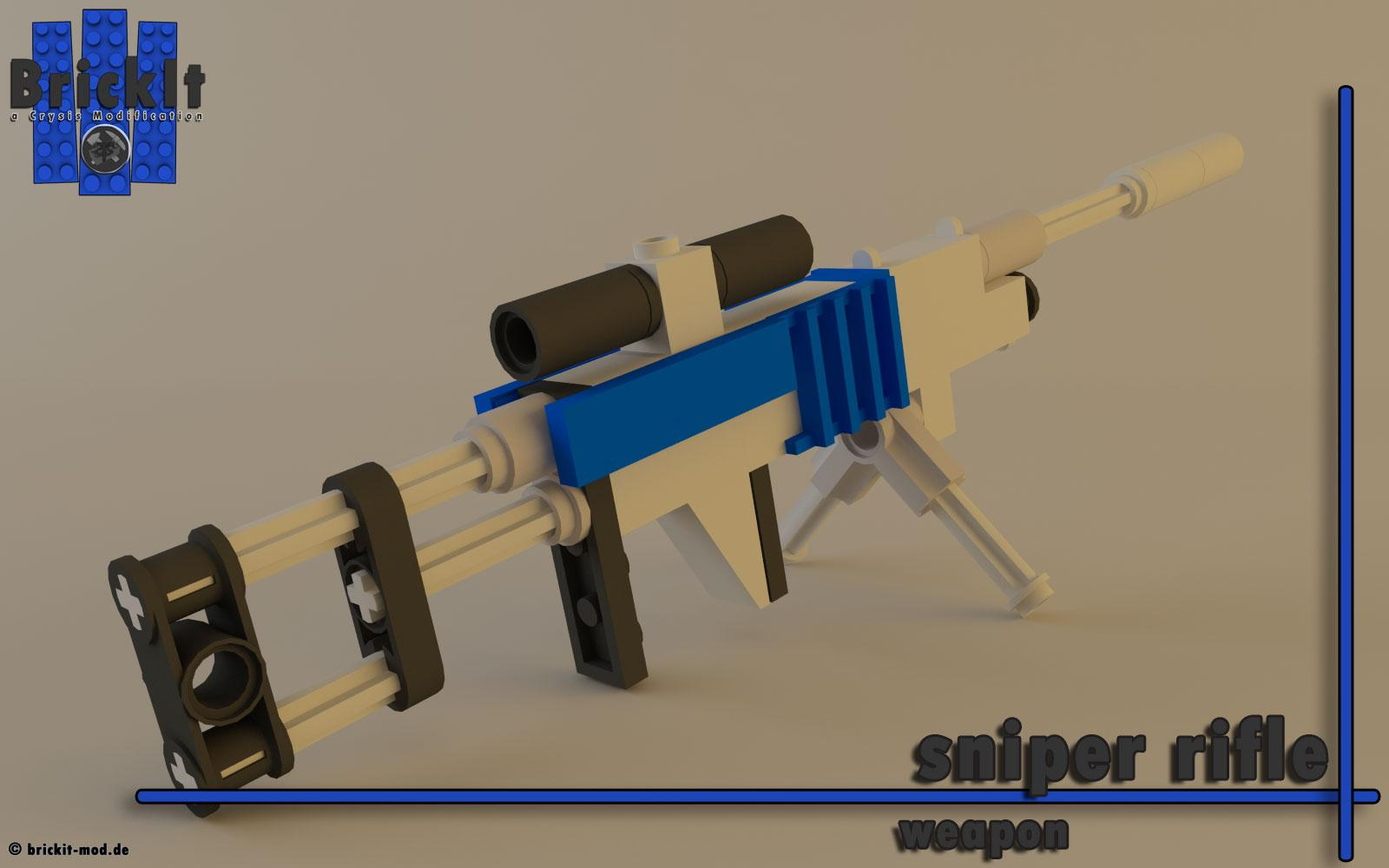rifle: (103, 111, 1264, 827)
